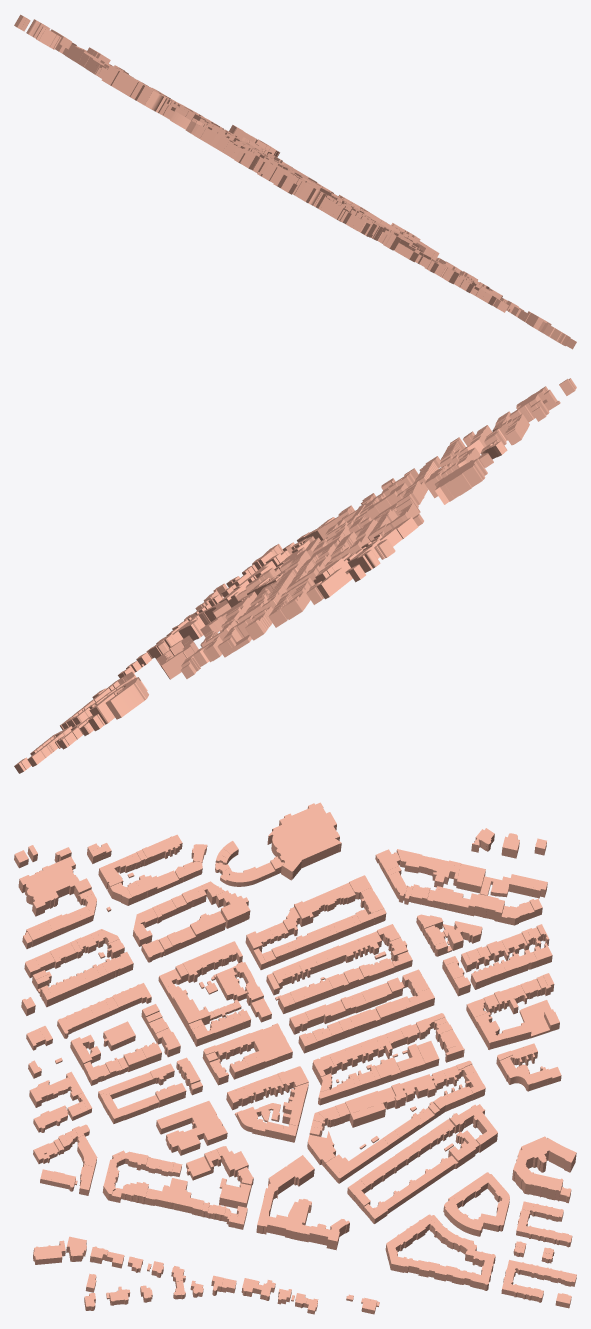
3 renders of one model, top to bottom at view 1: azimuth 30°, elevation 25°; view 2: azimuth 150°, elevation 25°; view 3: azimuth 270°, elevation 25°, orthographic. The views are drawn at different scales.
Size of the model in its own units: 529 by 412 by 640.
